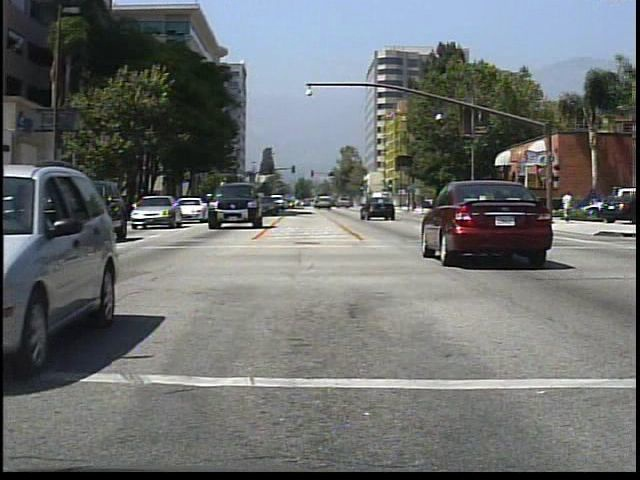person: (513, 190, 530, 227), (562, 189, 576, 224)
